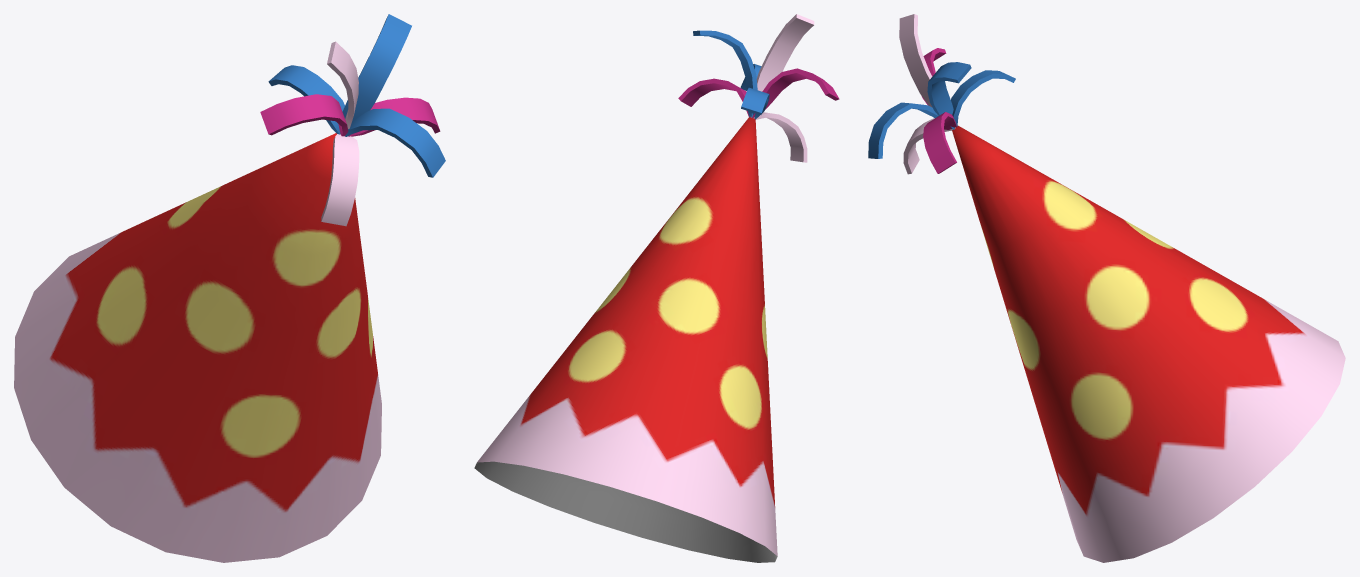
File: pm0094_00_gangar_pokemonday2020_hat.fbx
3 views of the same model, side by side, from view 1: azimuth 30°, elevation 25°; view 2: azimuth 150°, elevation 25°; view 3: azimuth 270°, elevation 25° (orthographic). The views are drawn at different scales.
Visible parts, largest first — view 1: pm0094_00_gangar_pokemonday2020_hat; view 2: pm0094_00_gangar_pokemonday2020_hat; view 3: pm0094_00_gangar_pokemonday2020_hat.
Boxes of the visible parts, <box> form: pm0094_00_gangar_pokemonday2020_hat: <box>14,14,445,562</box>; pm0094_00_gangar_pokemonday2020_hat: <box>474,14,839,562</box>; pm0094_00_gangar_pokemonday2020_hat: <box>868,14,1345,562</box>.
Bounding box in the file's own units: 0.3015 × 0.508 × 0.4313.
